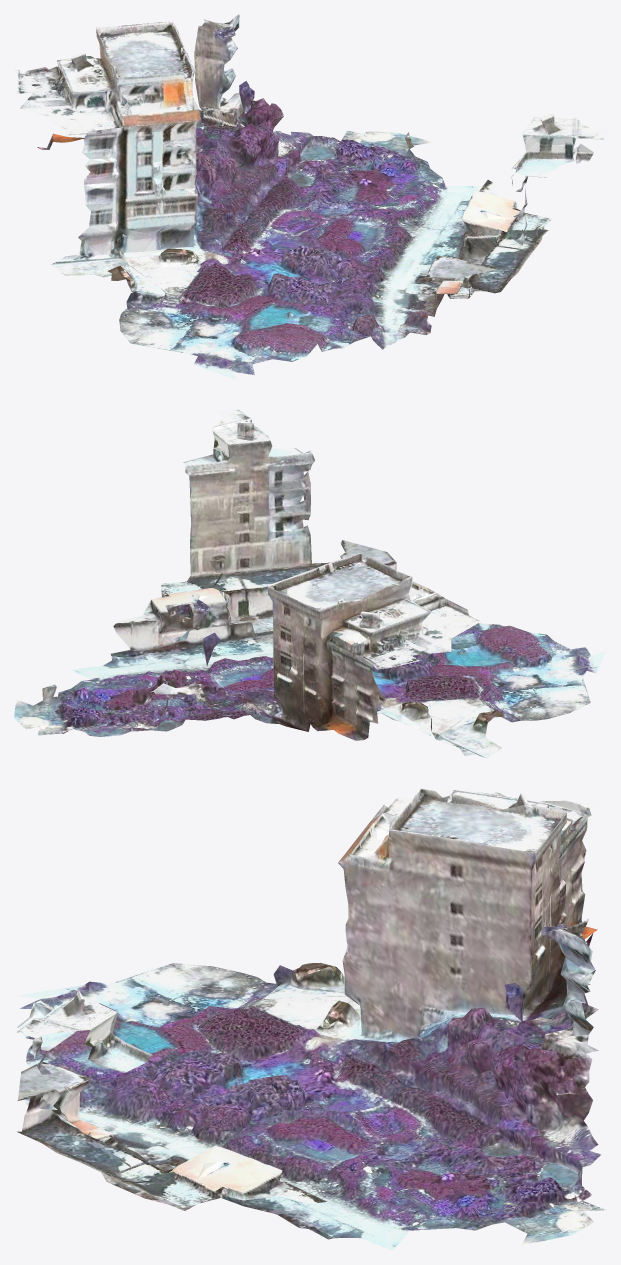
Rendered from Tile_+011_+019_L19_000010.glb.
3 renders of one model, top to bottom at view 1: azimuth 30°, elevation 25°; view 2: azimuth 150°, elevation 25°; view 3: azimuth 270°, elevation 25°, orthographic. The views are drawn at different scales.
Visible parts, largest first — view 1: rtc; view 2: rtc; view 3: rtc.
Part boxes in pixels (x1,y1,x2,y2): rtc: [14, 14, 606, 380]; rtc: [14, 409, 606, 758]; rtc: [15, 787, 606, 1250].
Bounding box in the file's own units: 60.65 × 24.88 × 54.97.
Materials: 1 (1 with a texture image).
